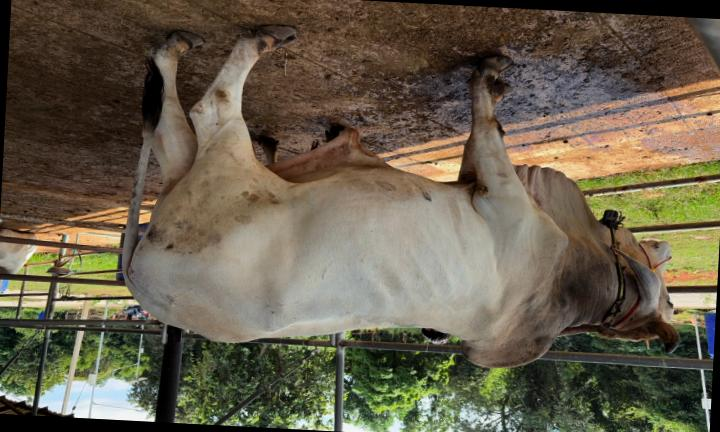Brahman: (122, 25, 678, 367)
